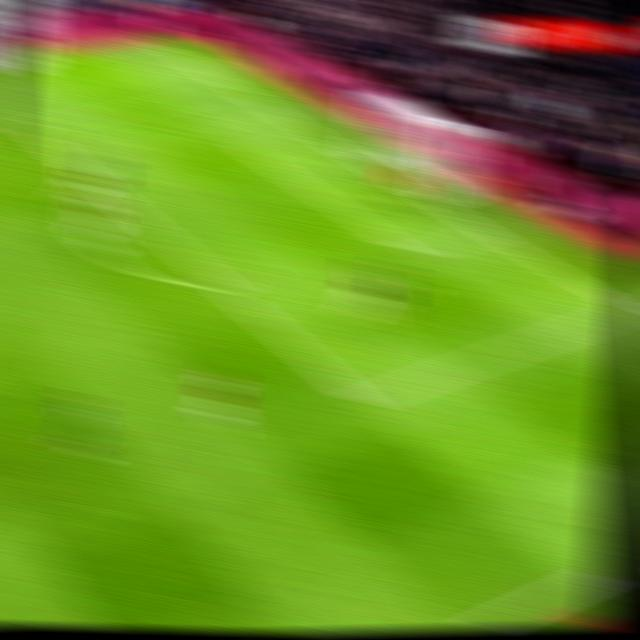bigarea_bottom_inner: (341, 383, 384, 416)
bigarea_bottom_outter: (613, 297, 638, 322)
bigarea_top_inner: (8, 111, 47, 141)
bigarea_top_outter: (222, 79, 259, 101)
bottom_arc_area_intersection: (204, 272, 247, 302)
corner: (136, 32, 176, 52)
smallarea_bottom_inner: (394, 239, 434, 268)
smallarea_bottom_outter: (470, 218, 508, 244)
smallarea_top_inner: (235, 137, 273, 163)
smallarea_top_outter: (299, 124, 339, 149)
